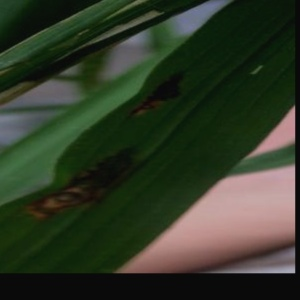Brown_Spot: (20, 140, 154, 233), (129, 60, 206, 128)
